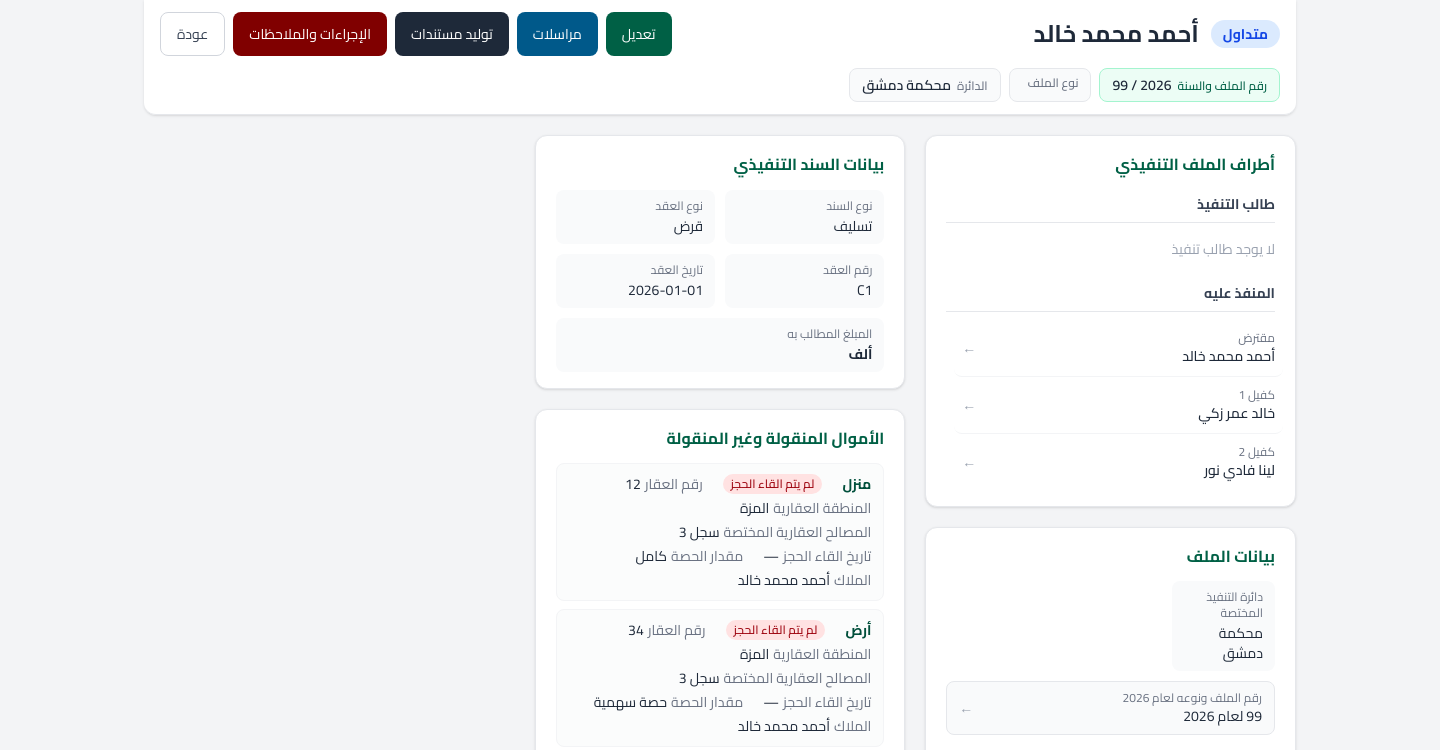
Scenario: DocumentView › يعرض رسالة فارغة في نافذة أرقام الأساس عندما لا توجد أرقام مسجلة
Click the button with aria-label "عرض أرقام الأساس للسنوات السابقة": (1206, 698) [946, 681, 1275, 735]
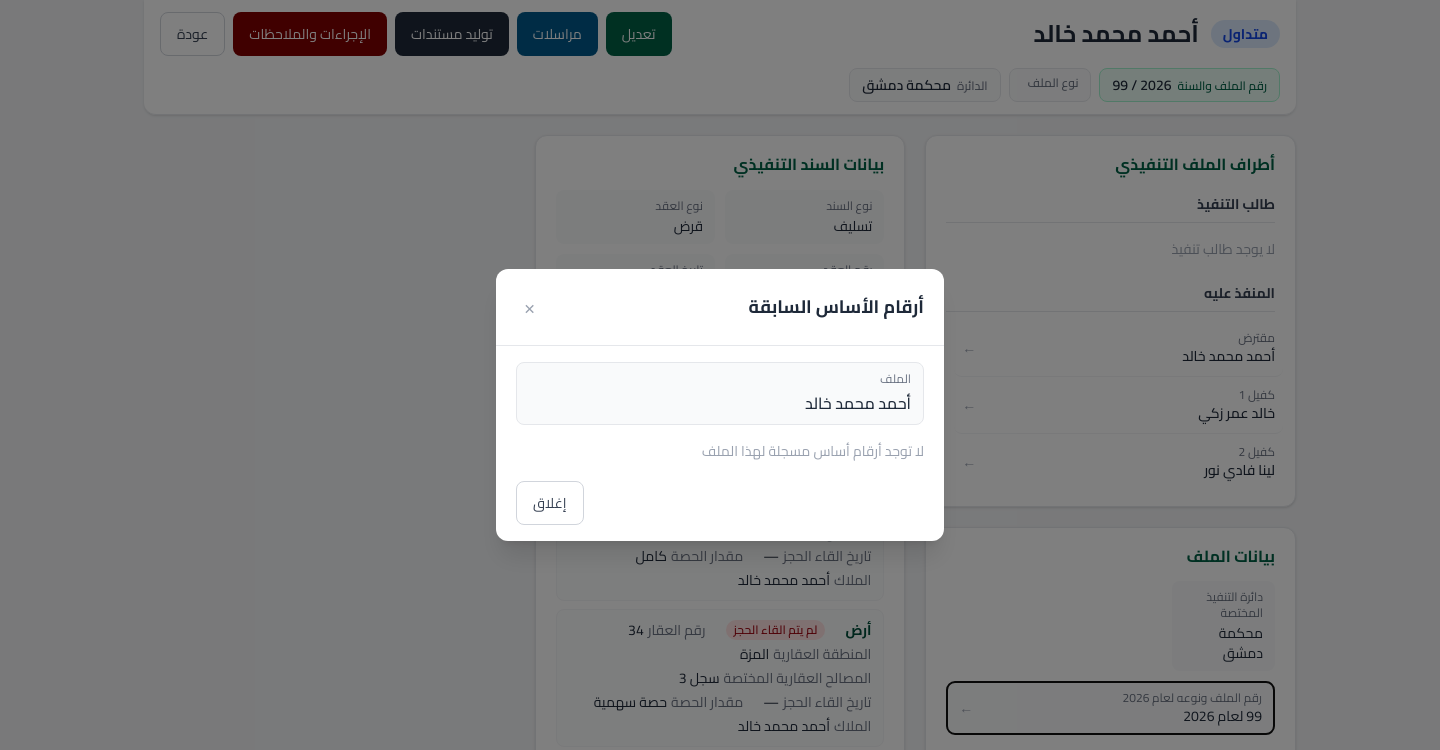
Expected: the text "لا توجد أرقام أساس مسجلة لهذا الملف" is shown, [702, 438, 924, 464]
